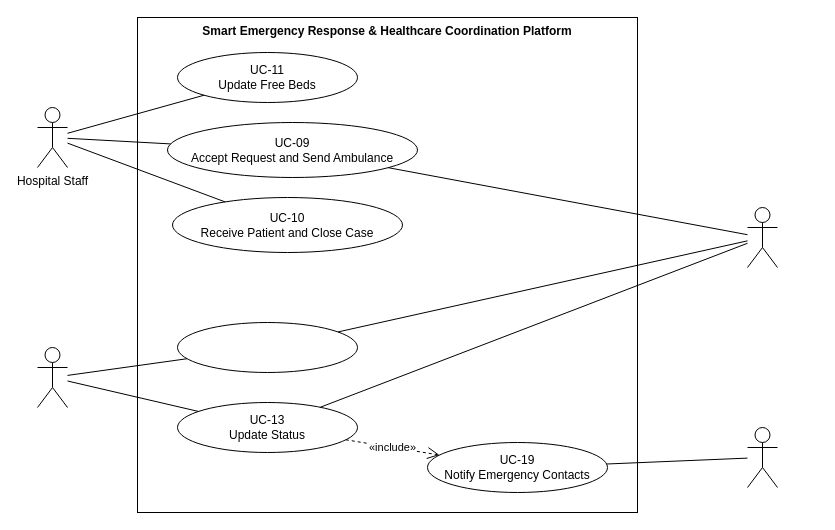
Some shapes in this 835 by 530 pixel diagram are drawn without their labels. The shapes that lost their labels are listed below. From the top down, each one's centre as x and y in pixels, then its label:
At (762,237): "Maps".
At (267,347): "UC-12 Get the Job".
At (52,377): "Paramedic".
At (762,457): "Emergency Contacts".
